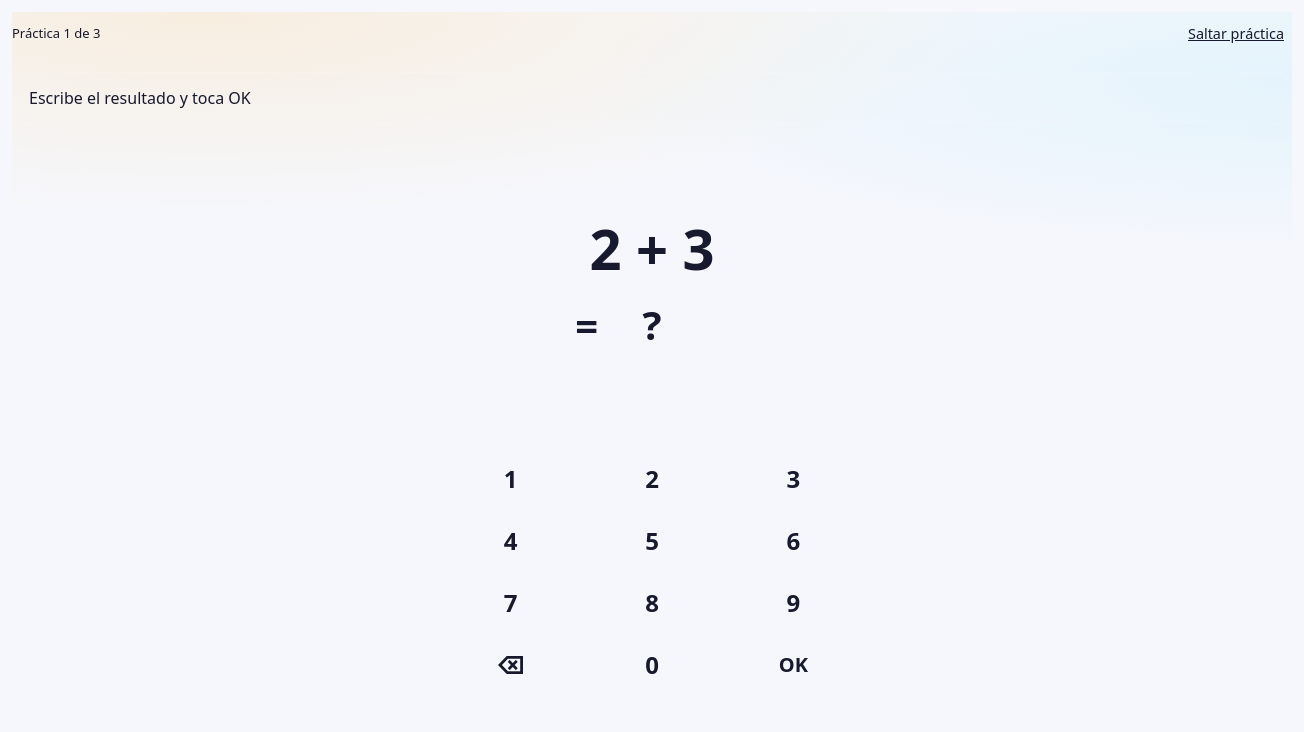
it: a wrong answer in round 1 hints and clears the answer
The width and height of the screenshot is (1304, 732).
Click the button "6": (793, 541) [727,514,860,568]
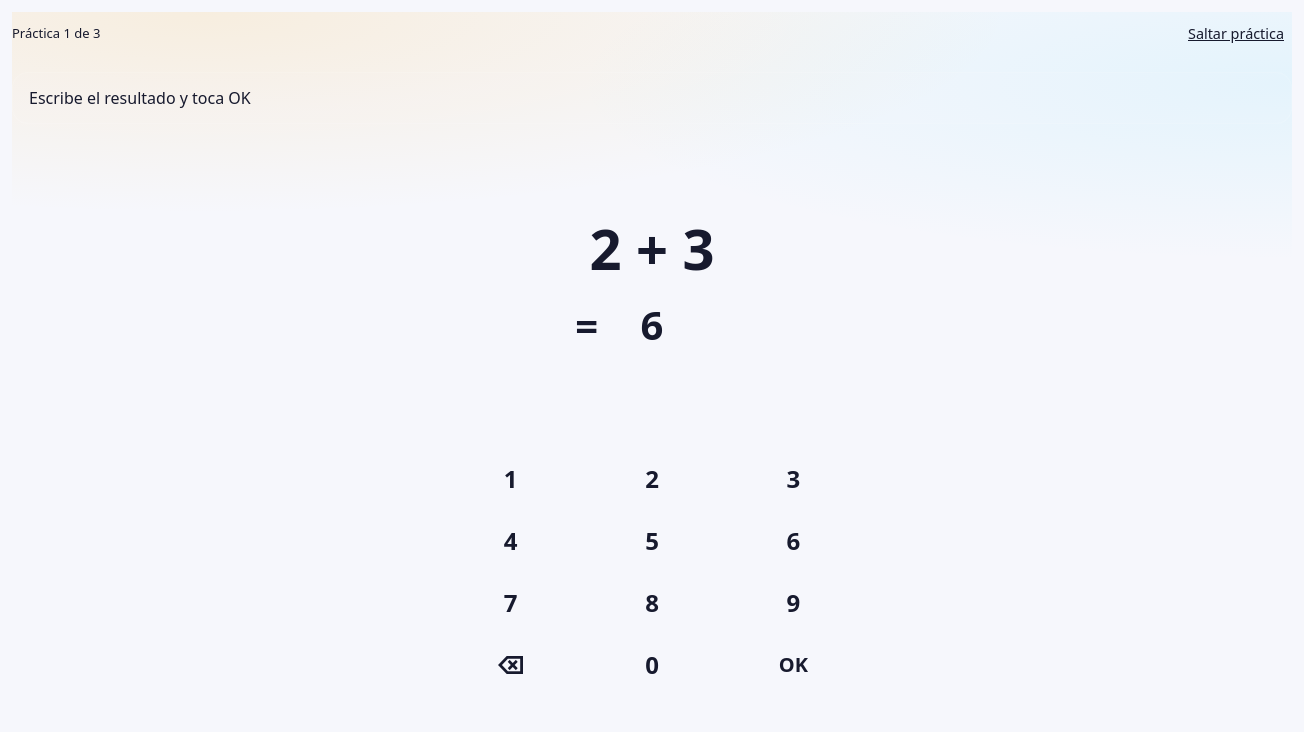
Result: the text with test id "answer" reads "6" at [640,297,663,352]
Click the button "OK": (793, 665) [727,638,860,692]
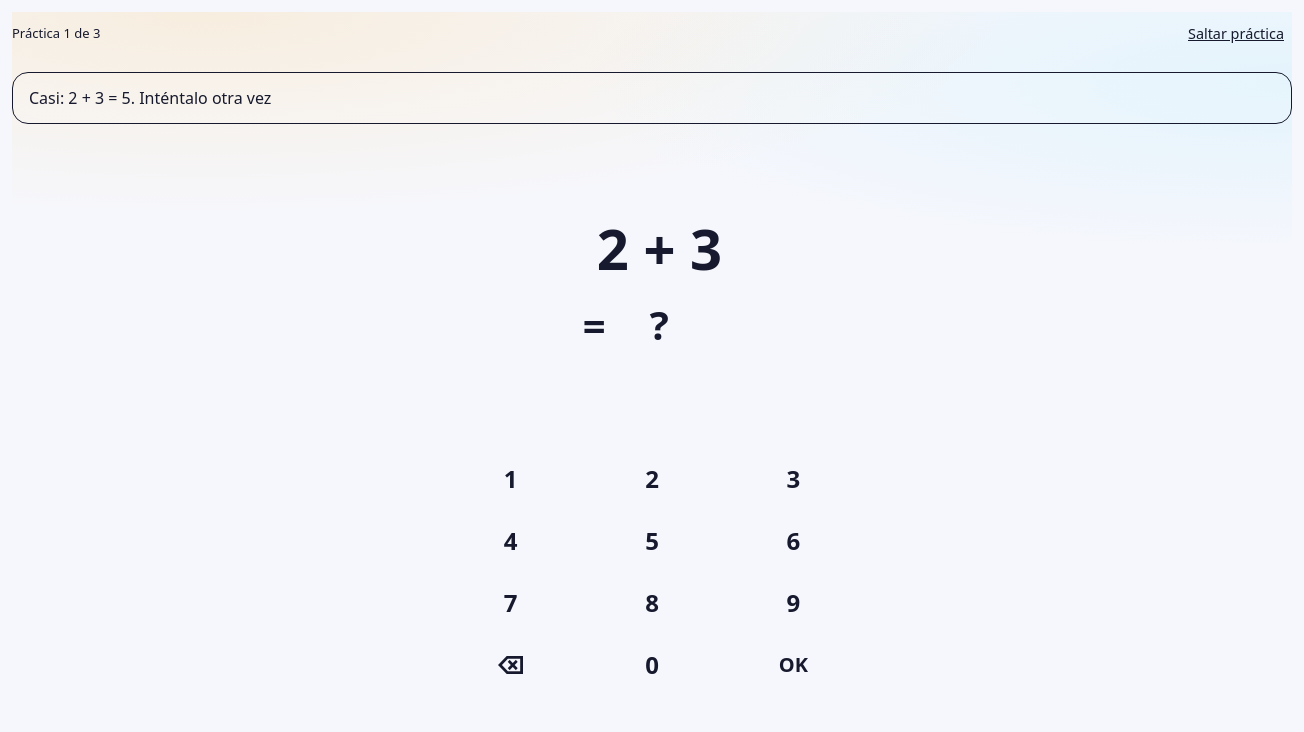
Expected: the text "Práctica 1 de 3" is shown, [12,24,100,44]
Result: the text "Casi: 2 + 3 = 5. Inténtalo otra vez" is shown at [12,72,1292,124]
Result: the text with test id "answer" reads "?" at [643,297,662,352]
